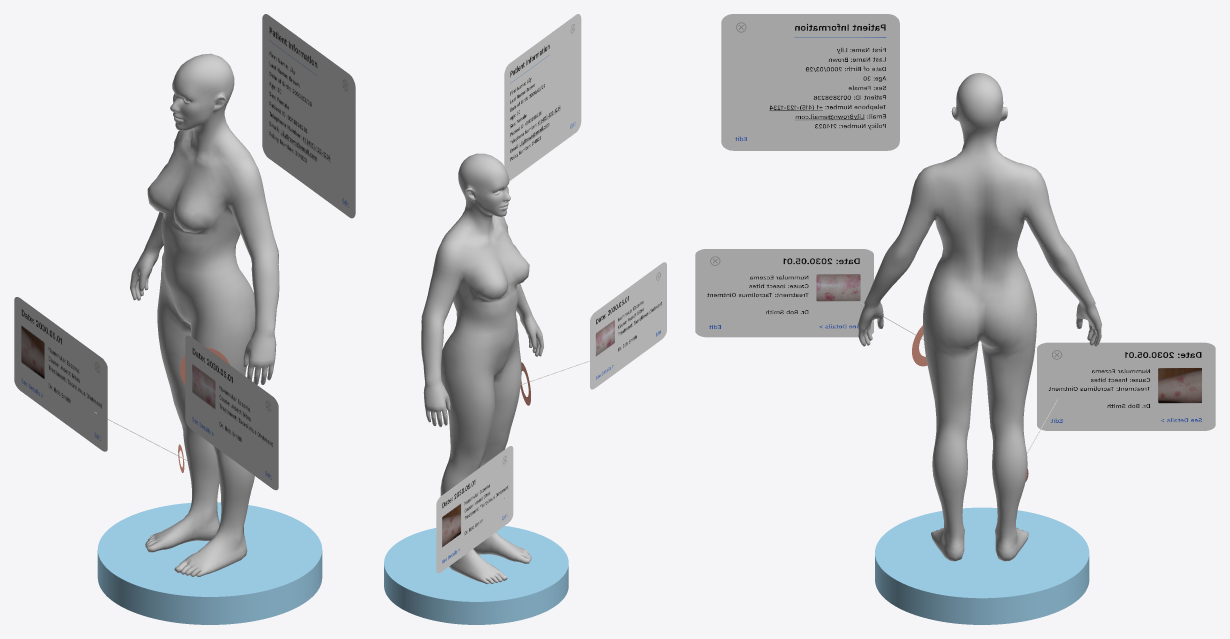
File: femalebody.gltf
3 views of the same model, side by side, from view 1: azimuth 30°, elevation 25°; view 2: azimuth 150°, elevation 25°; view 3: azimuth 270°, elevation 25° (orthographic). The views are drawn at different scales.
Visible parts, largest first — view 1: Realistic_White_Female_Low_Poly, Cylinder.004, Plane.001, Plane.002, Plane.003; view 2: Realistic_White_Female_Low_Poly, Cylinder.004, Plane.001, Plane.003, Plane.002; view 3: Realistic_White_Female_Low_Poly, Plane.001, Cylinder.004, Plane.003, Plane.002.
Boxes of the visible parts, box(x1,y1,x2,y2) form: Realistic_White_Female_Low_Poly: box(130, 53, 279, 576); Cylinder.004: box(97, 502, 322, 624); Plane.001: box(262, 14, 355, 218); Plane.002: box(185, 335, 278, 490); Plane.003: box(14, 297, 107, 451); Realistic_White_Female_Low_Poly: box(421, 153, 543, 584); Cylinder.004: box(384, 526, 568, 624); Plane.001: box(504, 14, 581, 180); Plane.003: box(436, 446, 513, 573); Plane.002: box(590, 262, 666, 389); Realistic_White_Female_Low_Poly: box(858, 73, 1101, 561); Plane.001: box(721, 14, 899, 150); Cylinder.004: box(875, 507, 1089, 624); Plane.003: box(1037, 342, 1215, 430); Plane.002: box(695, 249, 873, 337).
Bounding box in the file's own units: 19.31 × 56.64 × 46.87.
Materials: 8 (3 with a texture image).
